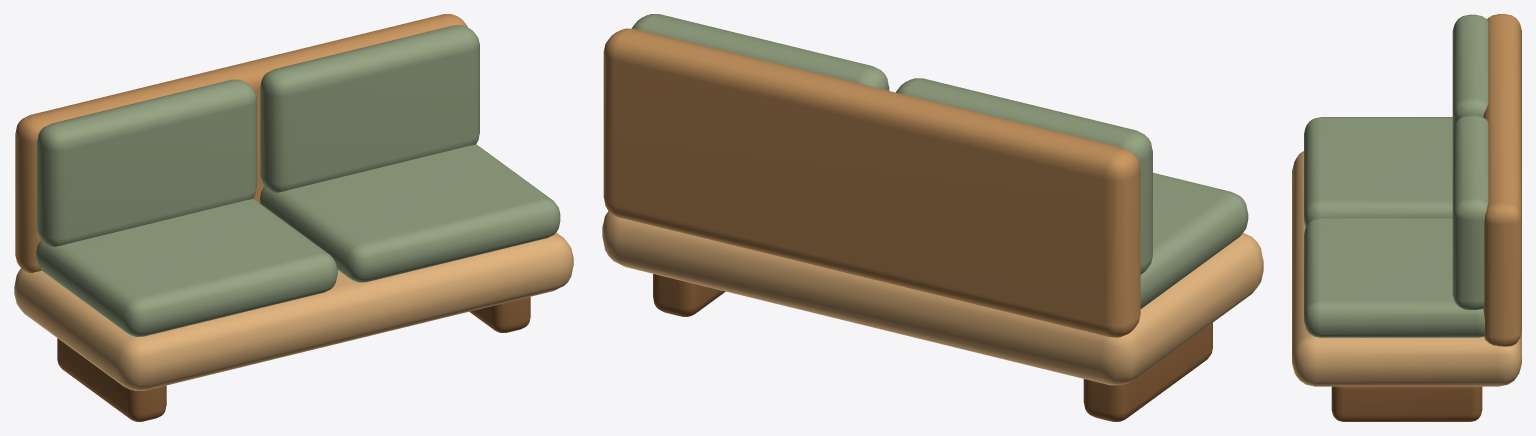
Rendered from cafe-bench.obj.
The picture shows the model from 3 angles, left to right: view 1: azimuth 30°, elevation 25°; view 2: azimuth 150°, elevation 25°; view 3: azimuth 270°, elevation 25°; orthographic projection. The views are drawn at different scales.
Visible parts, largest first — view 1: cafe-bench_sage, cafe-bench_oakLight, cafe-bench_oak, cafe-bench_oakDark; view 2: cafe-bench_oak, cafe-bench_oakLight, cafe-bench_sage, cafe-bench_oakDark; view 3: cafe-bench_sage, cafe-bench_oakLight, cafe-bench_oak, cafe-bench_oakDark.
Part boxes in pixels (x1,y1,x2,y2): cafe-bench_sage: [36, 25, 560, 336]; cafe-bench_oakLight: [14, 232, 573, 390]; cafe-bench_oak: [15, 14, 467, 272]; cafe-bench_oakDark: [57, 296, 530, 421]; cafe-bench_oak: [603, 28, 1140, 337]; cafe-bench_oakLight: [602, 211, 1263, 385]; cafe-bench_sage: [632, 14, 1248, 308]; cafe-bench_oakDark: [653, 274, 1212, 421]; cafe-bench_sage: [1304, 14, 1488, 337]; cafe-bench_oakLight: [1292, 151, 1521, 386]; cafe-bench_oak: [1483, 14, 1521, 346]; cafe-bench_oakDark: [1331, 386, 1482, 421].
Size of the model in its own units: 1.22 by 0.635 by 0.58.
